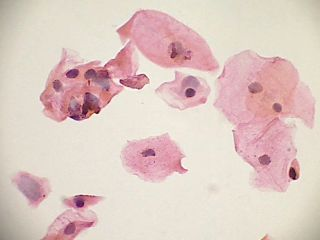HSIL: (231, 120, 299, 193), (153, 70, 211, 112), (39, 66, 78, 122), (42, 206, 98, 240), (12, 168, 52, 208), (84, 67, 123, 107), (60, 86, 97, 122), (79, 80, 113, 114), (60, 58, 100, 85), (64, 197, 103, 214), (286, 154, 304, 186)
LSIL: (214, 49, 300, 130), (116, 8, 220, 72), (120, 132, 189, 183)
Normal: (246, 56, 316, 132)
